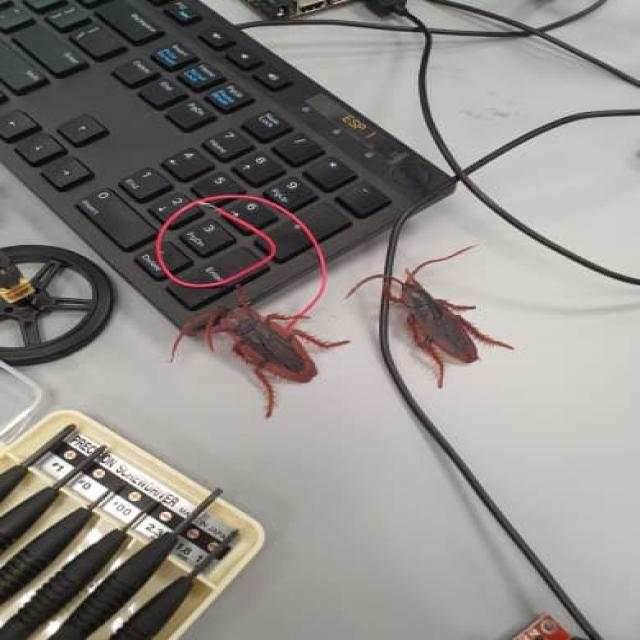Cockroach: (166, 284, 353, 415), (348, 261, 517, 386)
